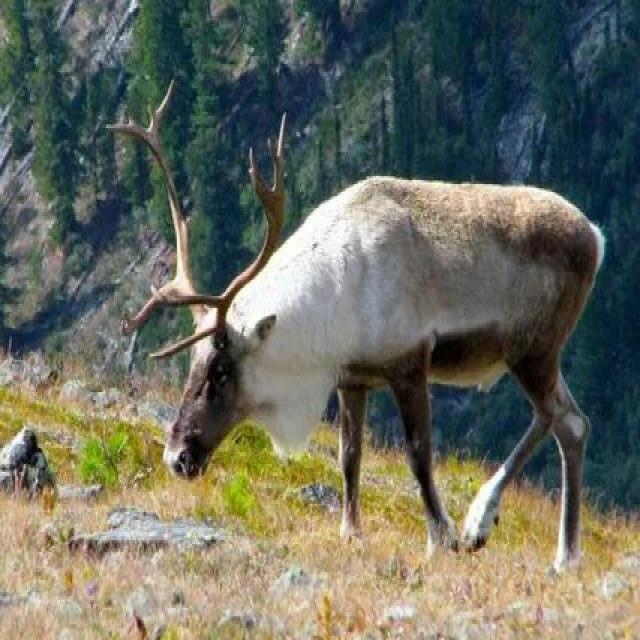deer: (127, 136, 621, 519)
